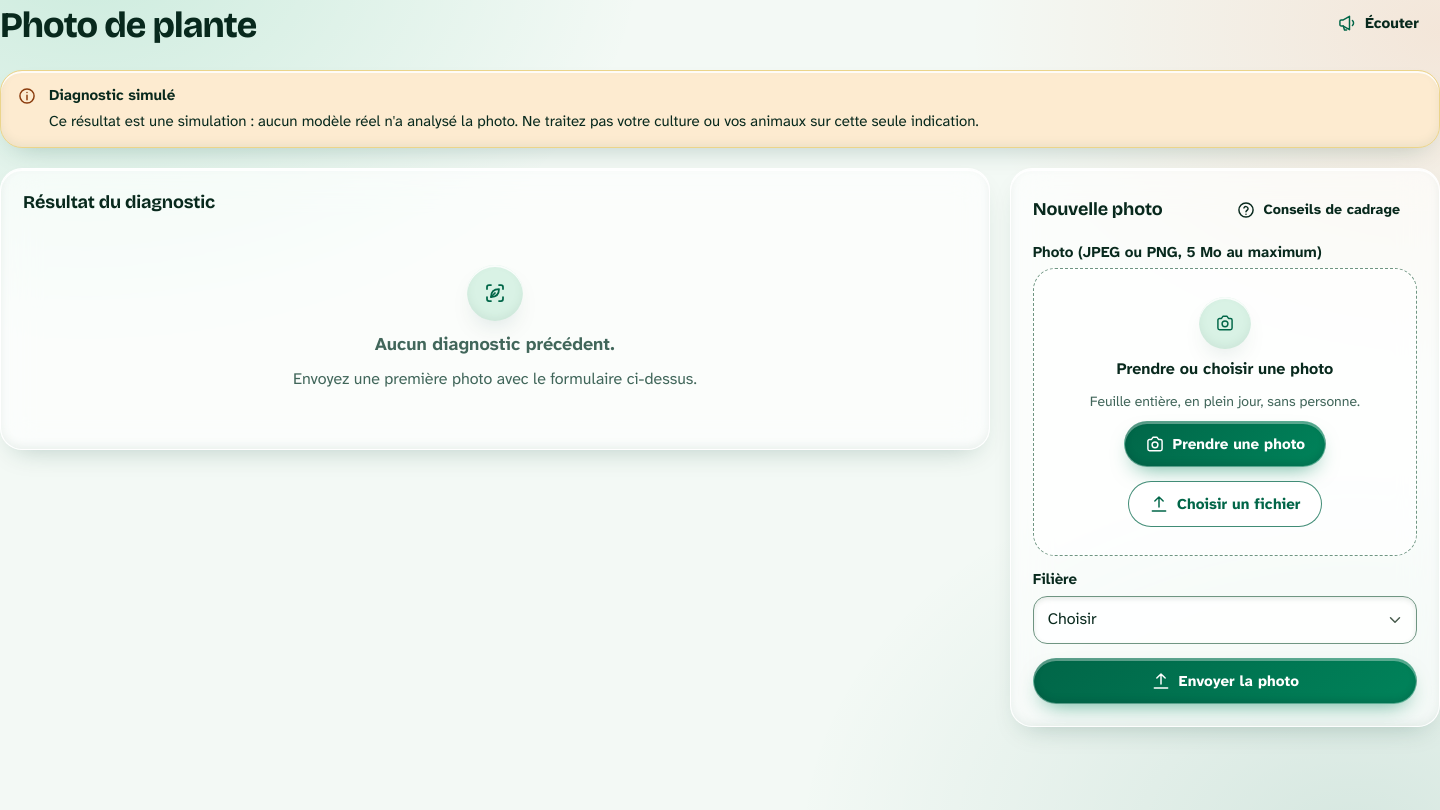
Test case: Diagnostic par photo › les conseils de cadrage s'ouvrent depuis le formulaire de photo
What coordinates should you click on to do the following:
click the button "Conseils de cadrage"
I would click on:
 (1318, 210)
Its box is [1218,190,1417,228].
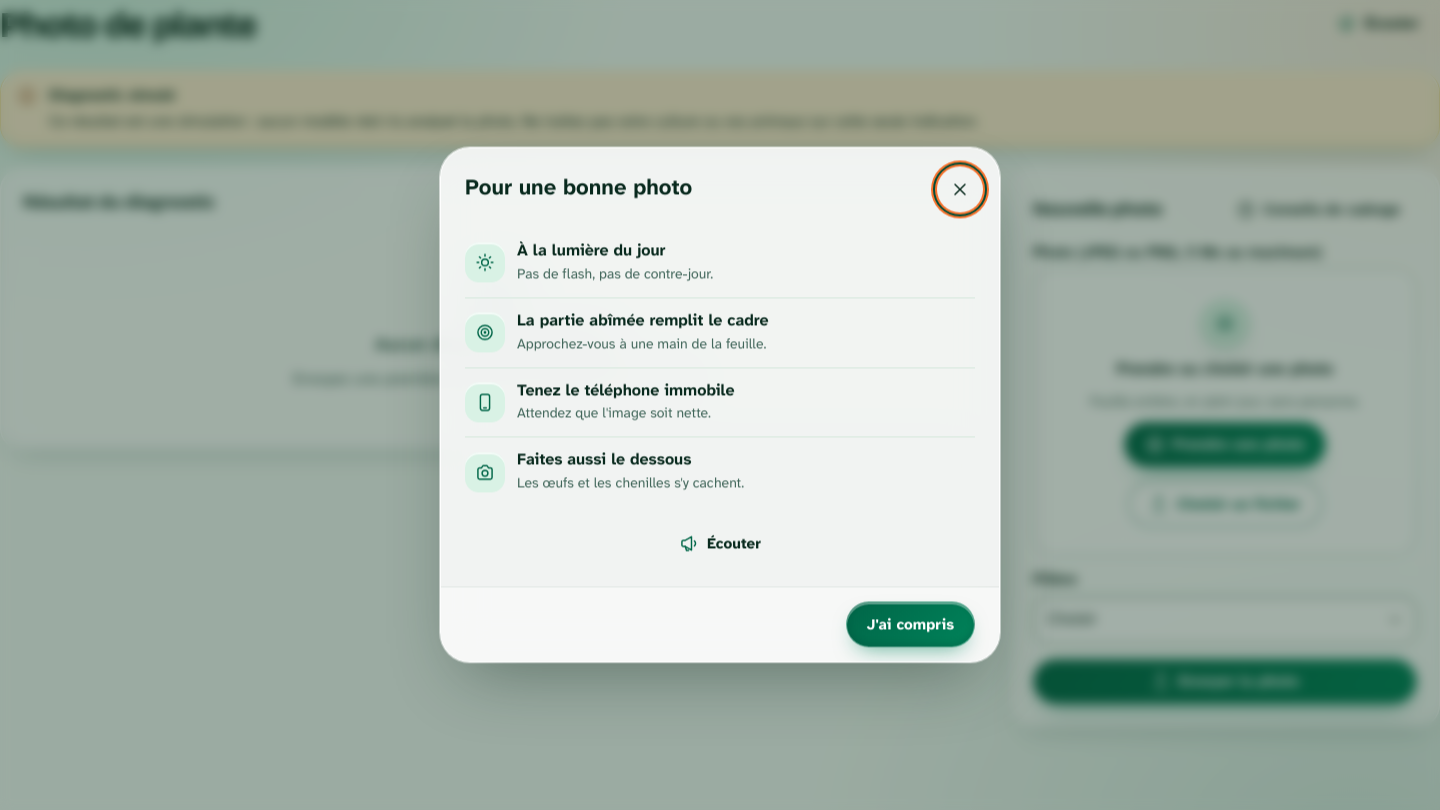
Result: the heading "Pour une bonne photo" is shown at [465,166,692,201]
Result: the text "À la lumière du jour" is shown at [517,239,666,260]
Result: the text "Faites aussi le dessous" is shown at [517,449,691,470]
